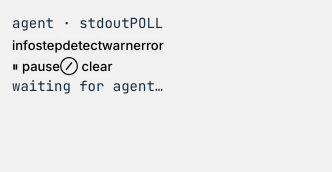
<EventStream /> › pause button toggles to "resume"
Click the button "⏸ pause" at (36, 66), box [12,58,60,75]
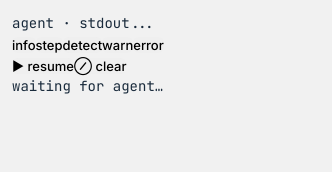
Check: the button "▶ resume" is shown, box [12,58,74,74]
